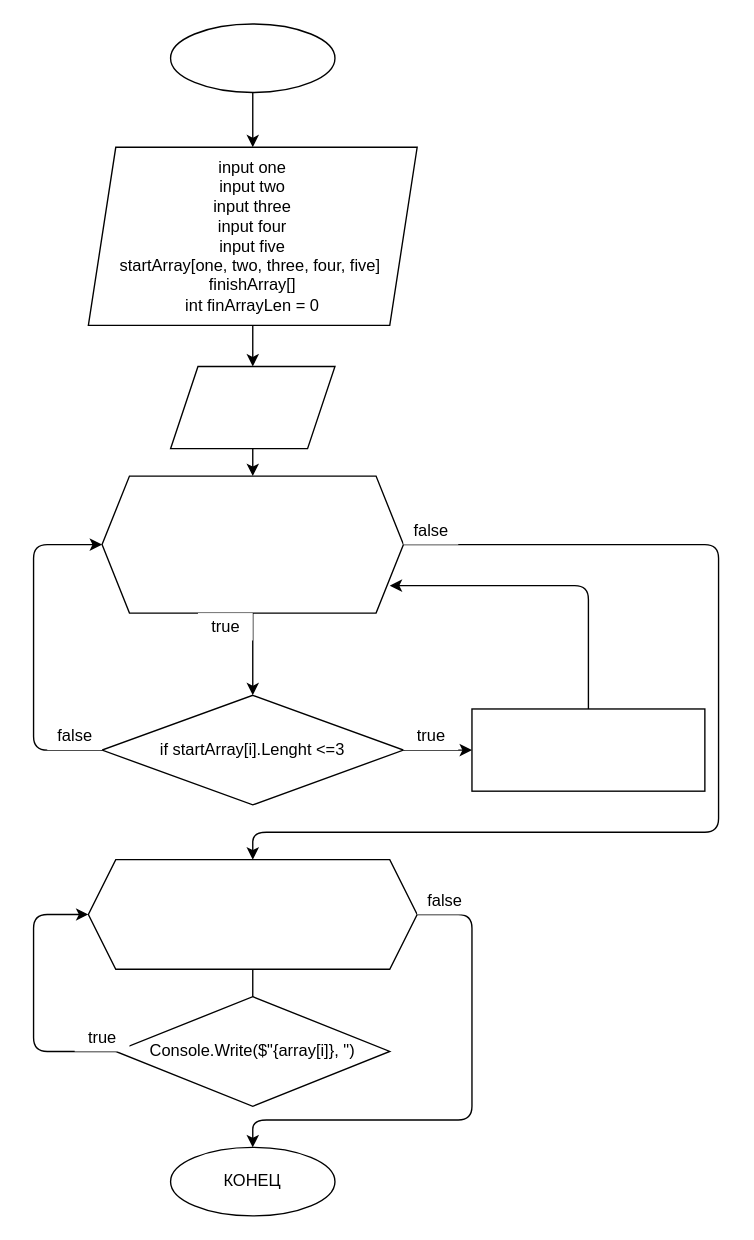
This 754x1240 diagram has some shape labels left out. Each missing label, with the centre of its shape:
finishArray[count] = startArray[i] count++: the point at 588,749
for (int i = 0, i <= startArray.Lenght, i++): the point at 252,544
for (int i = 0; i < finArrayLen; i++): the point at 252,913
int count = 0: the point at 252,407
НАЧАЛО: the point at 252,57
